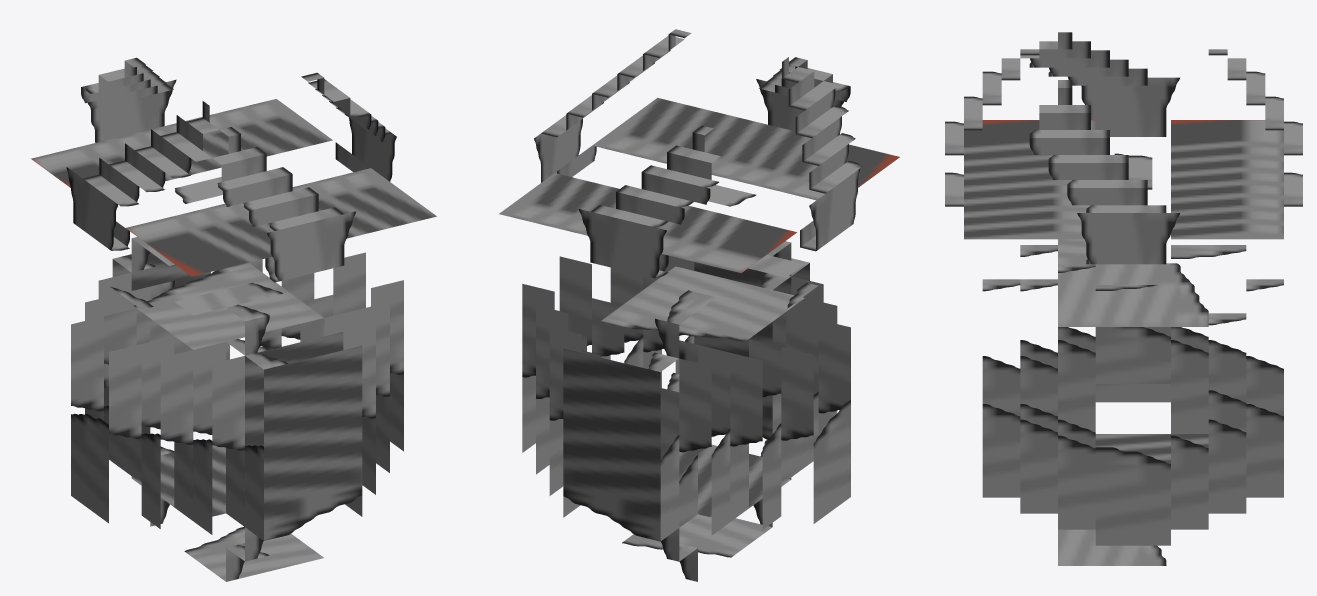
The model's file is Abajur.obj.
3 renders of one model, left to right at view 1: azimuth 30°, elevation 25°; view 2: azimuth 150°, elevation 25°; view 3: azimuth 270°, elevation 25°, orthographic.
Visible parts, largest first — view 1: Model; view 2: Model; view 3: Model.
Boxes of the visible parts, x1,y1,x2,y2 form: Model: [31, 57, 436, 581]; Model: [499, 29, 899, 581]; Model: [945, 32, 1302, 565].
Bounding box in the file's own units: 19.2 × 32 × 20.27.
Materials: 1 (1 with a texture image).
